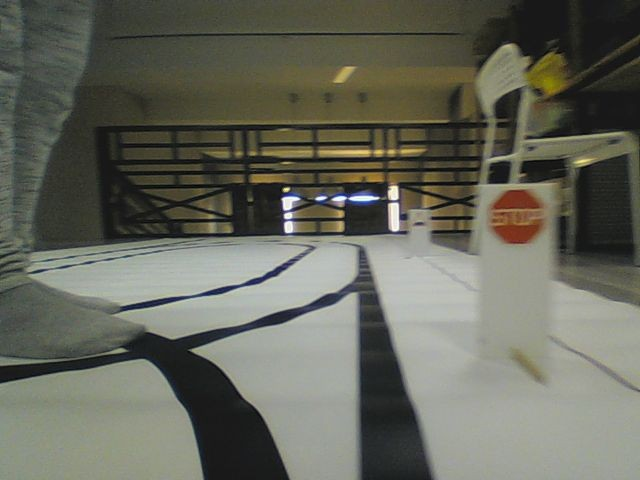Stop: (490, 188, 546, 245)
